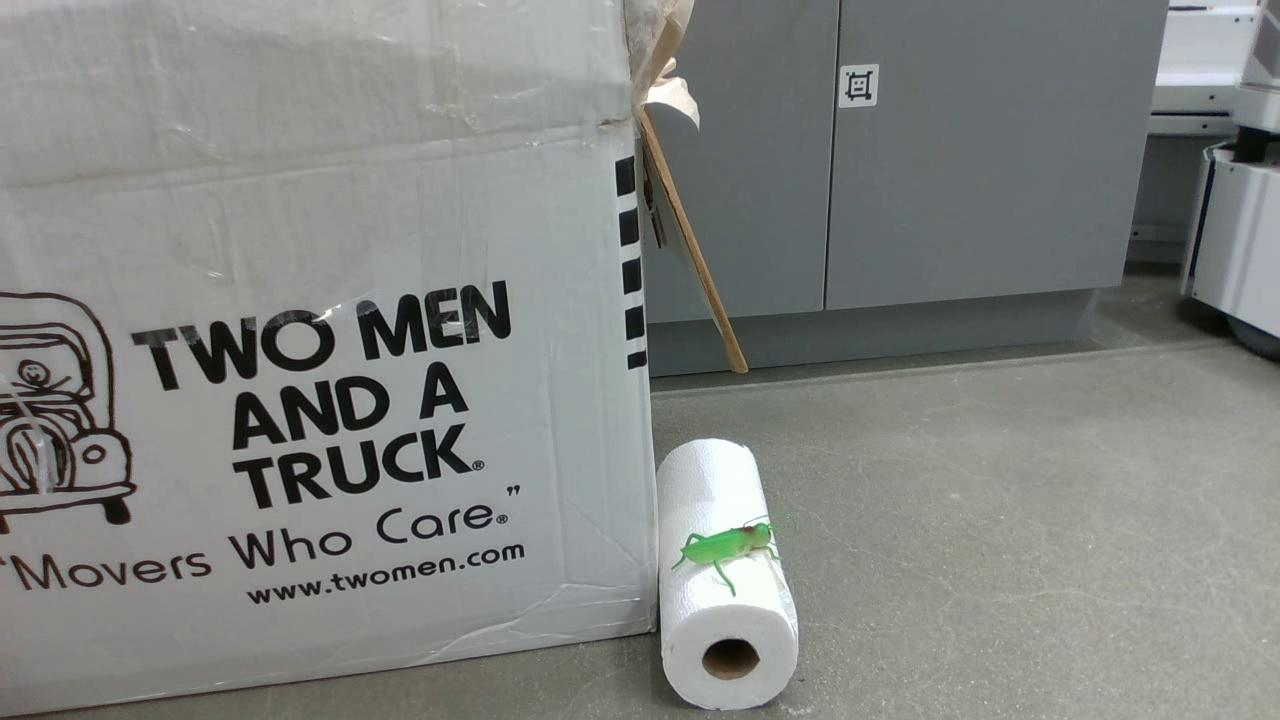grasshopper: (671, 517, 784, 594)
